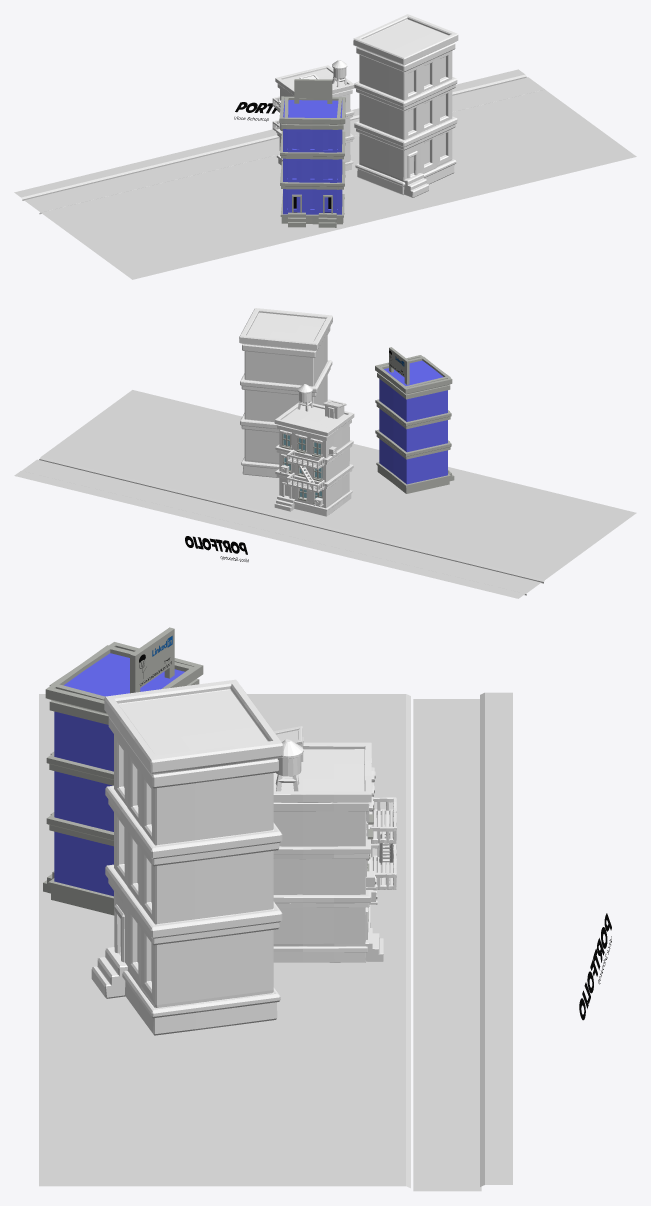
The model's file is exportThreejs.gltf.
3 views of the same model, one above another, from view 1: azimuth 30°, elevation 25°; view 2: azimuth 150°, elevation 25°; view 3: azimuth 270°, elevation 25° (orthographic). The views are drawn at different scales.
Parts seen in each view (by area): view 1: Sidewalk.001, Building C, Billboard, Building A; view 2: Sidewalk.001, Building C, Billboard, Building A, Portfolio; view 3: Sidewalk.001, Building C, Building A, Billboard, Portfolio.
Part boxes in pixels (x1,y1,x2,y2): Sidewalk.001: [14, 69, 636, 279]; Building C: [353, 14, 458, 197]; Billboard: [279, 79, 345, 227]; Building A: [272, 60, 354, 170]; Sidewalk.001: [14, 390, 636, 598]; Building C: [239, 308, 332, 477]; Billboard: [375, 347, 454, 493]; Building A: [274, 384, 354, 516]; Portfolio: [185, 536, 247, 554]; Sidewalk.001: [39, 692, 512, 1191]; Building C: [91, 679, 283, 1035]; Building A: [273, 726, 396, 962]; Billboard: [43, 627, 203, 915]; Portfolio: [579, 913, 611, 1020].
Size of the model in its own units: 139 by 39.57 by 68.15.
Materials: 16 (3 with a texture image).
